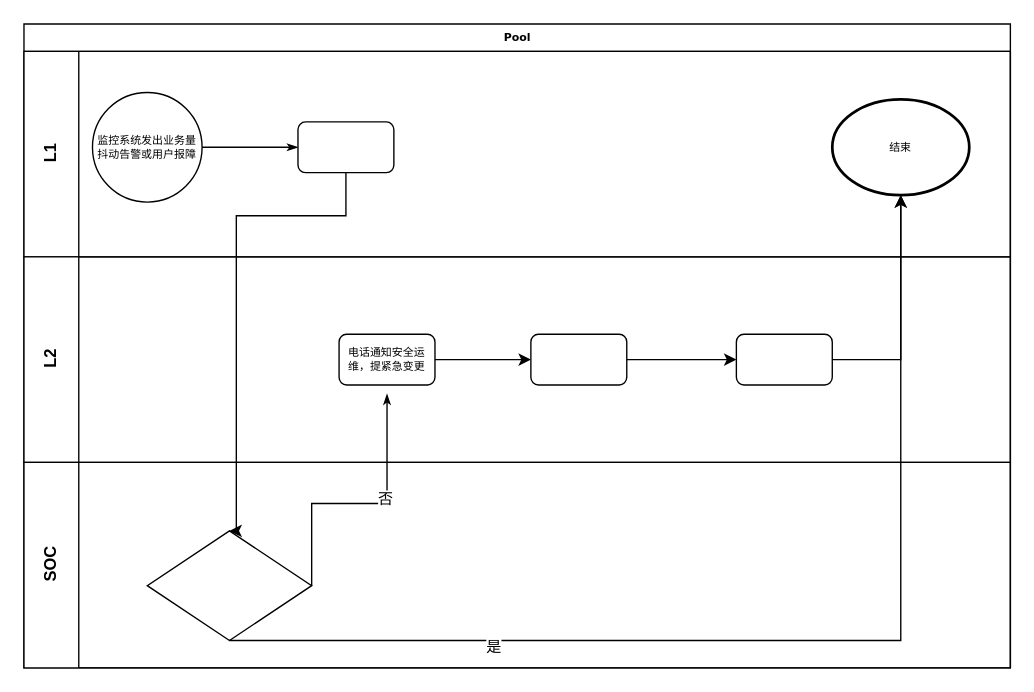
Image size: 1034x692. Some labels were removed from this diagram. Each missing label, with the centre of its shape:
"创建工单 /电话通知" belongs at [345,147].
"登录waf console分析拦截是否正常" belongs at [229,585].
"调用bypass工具bypass waf" belongs at [578,359].
"验证访问是否正常" belongs at [783,359].
